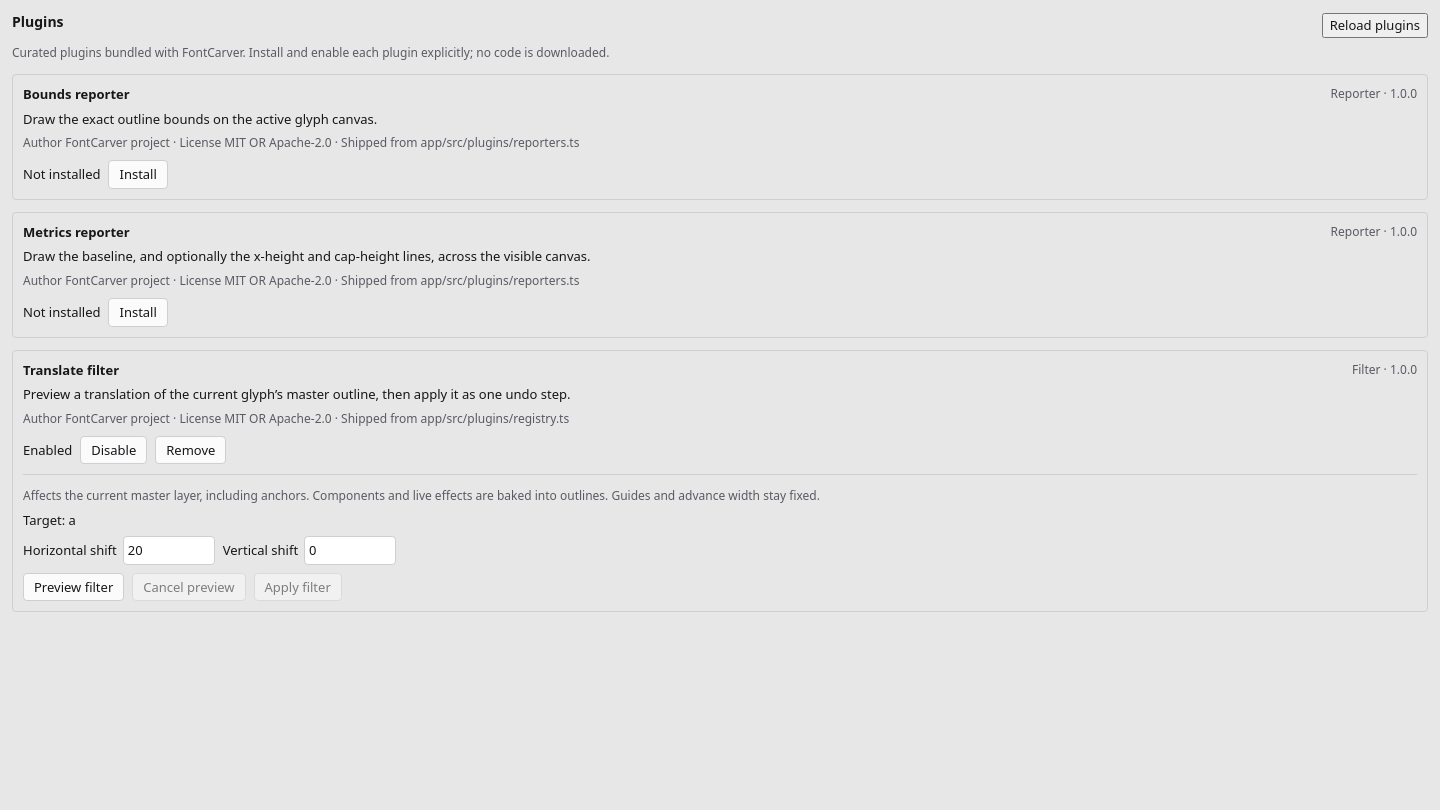
Test case: explains stale-preview rejection without reloading or allowing another Apply
This screenshot has width=1440, height=810.
Click the button "Preview filter": (74, 587) [23,572,124,601]
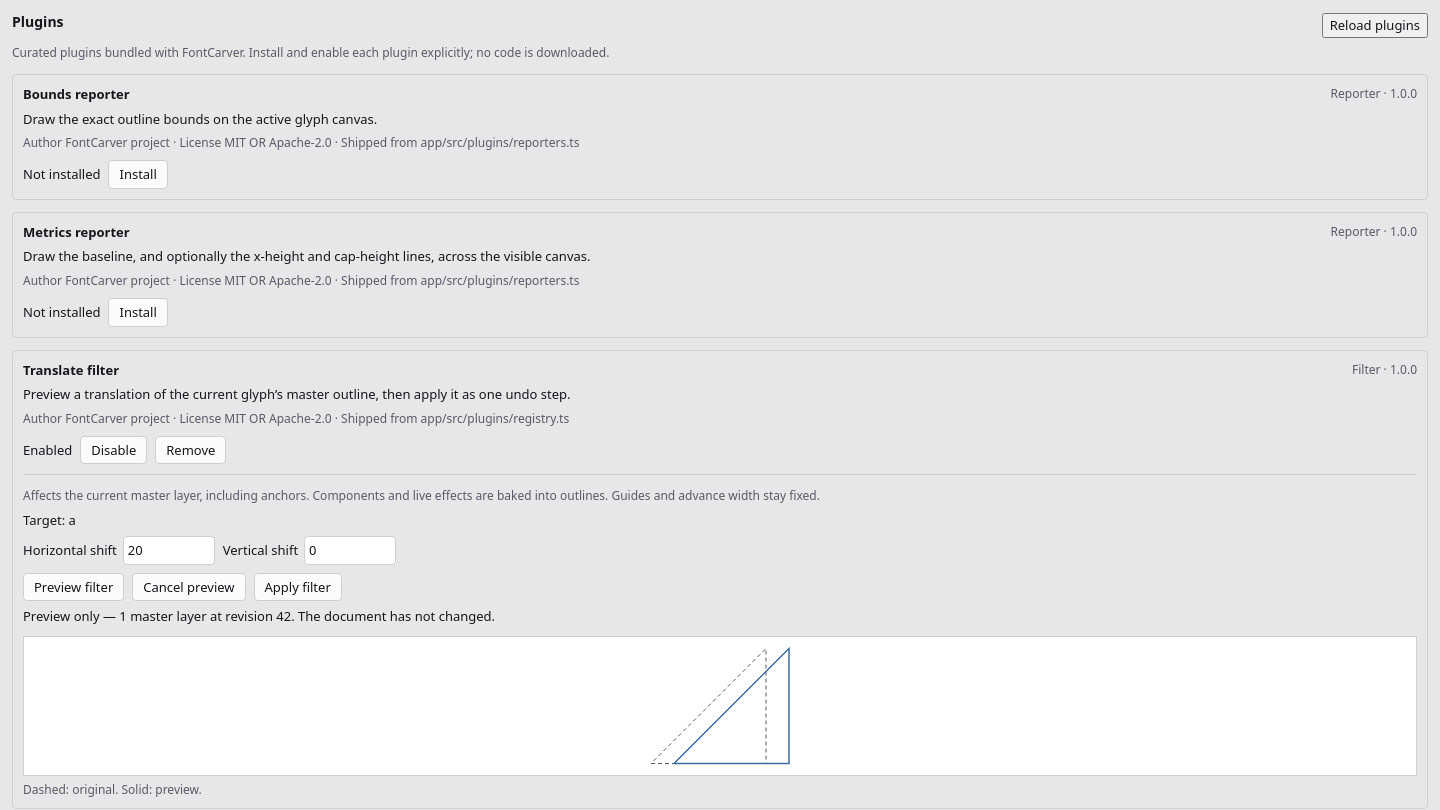
Result: the button "Apply filter" is enabled
Click the button "Apply filter": (298, 587) [254,572,342,601]
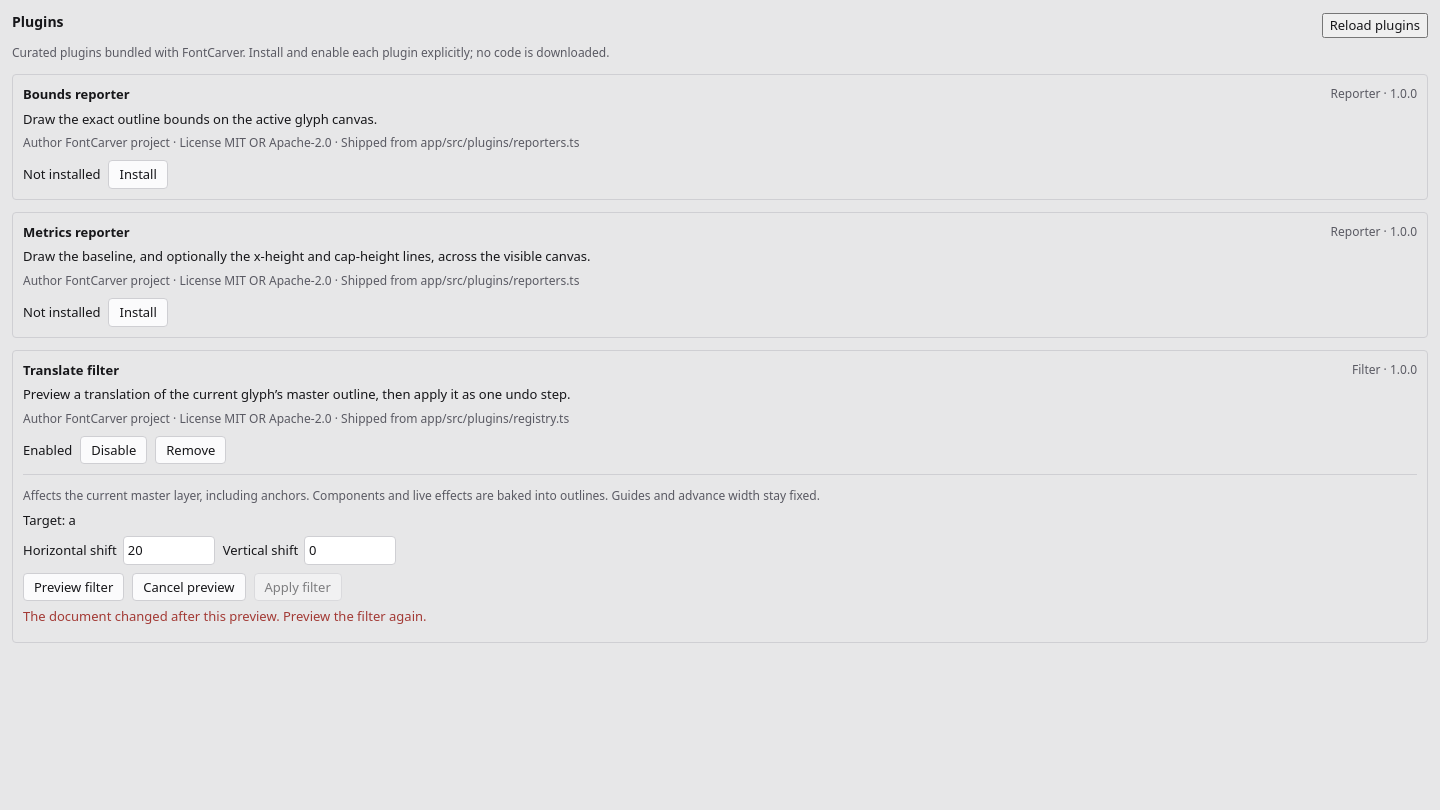
Result: the message reads "The document changed after this preview. Preview the filter again." at [23,607,426,625]
Result: the picture is gone
Result: the button "Apply filter" is disabled at [254,572,342,601]
